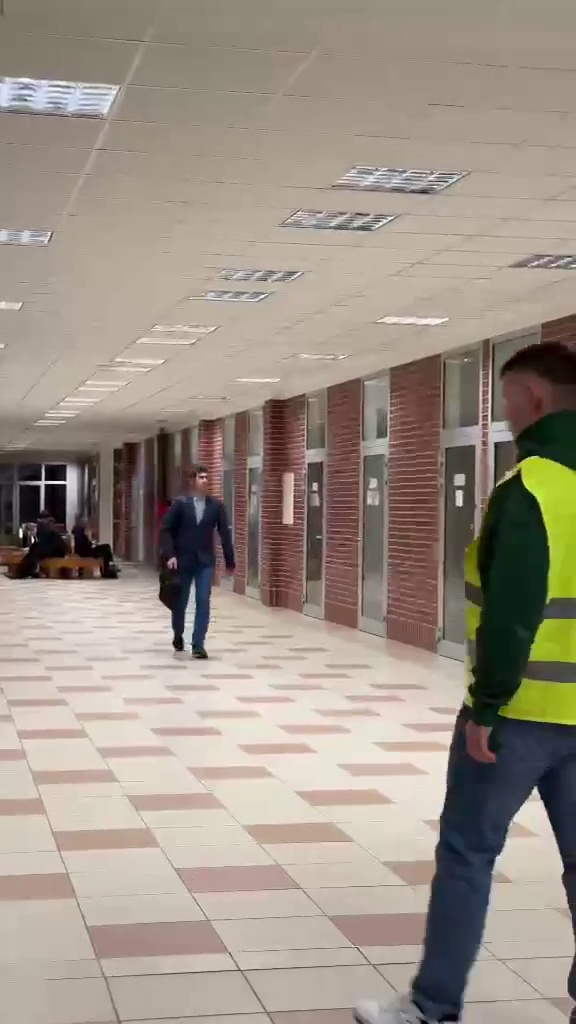no vest: (157, 461, 234, 653)
vest: (433, 333, 576, 1021)
